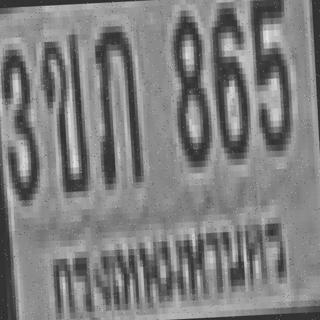A02: (38, 28, 88, 193)
A32: (91, 19, 142, 184)
N03: (0, 43, 38, 202)
N05: (247, 0, 292, 152)
N06: (208, 0, 250, 157)
N08: (169, 4, 211, 162)
P04: (45, 203, 292, 320)
